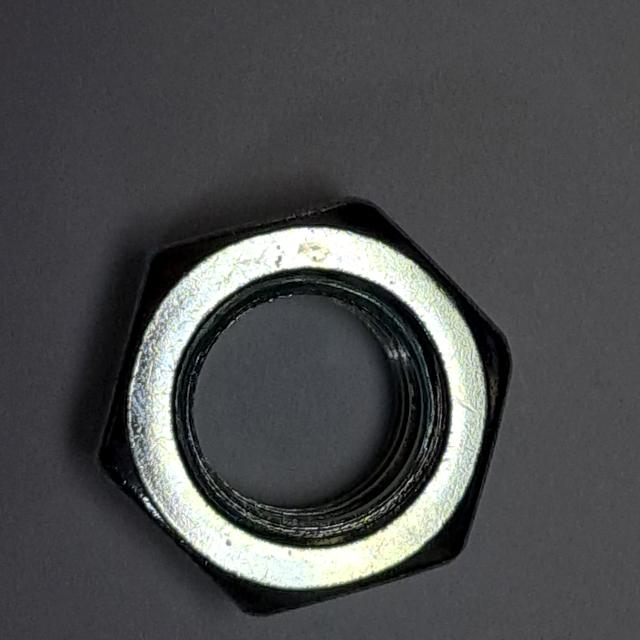Excellent: (85, 188, 524, 626)
